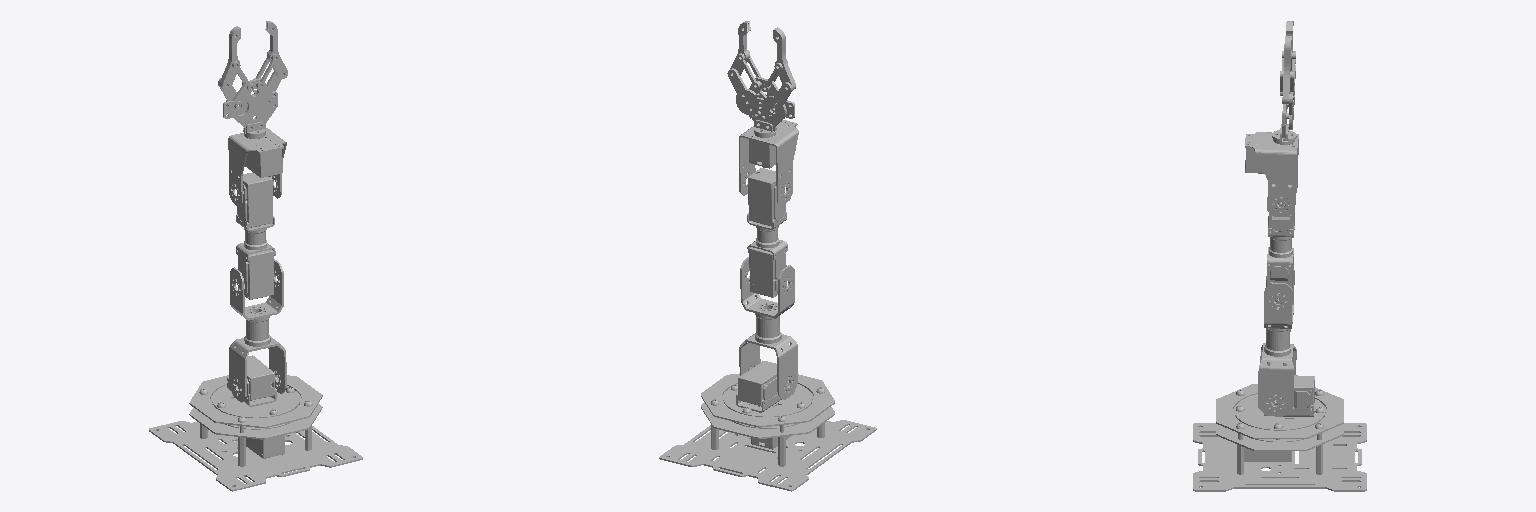
robot.urdf — xbot_urdf:
<robot
  name="xbot_urdf">
  <link
    name="arm_base_link_left">
    <inertial>
      <origin
        xyz="6.5338E-05 -0.0025324 0.015476"
        rpy="0 0 0" />
      <mass
        value="0.088438" />
      <inertia
        ixx="0.0001552"
        ixy="1.1634E-07"
        ixz="-5.1335E-08"
        iyy="0.00012874"
        iyz="1.1171E-06"
        izz="0.00024065" />
    </inertial>
    <visual>
      <origin
        xyz="0 0 0"
        rpy="0 0 0" />
      <geometry>
        <mesh
          filename="package://jbot_description/meshes/arm_base_link.stl" />
      </geometry>
      <material
        name="">
        <color
          rgba="0.75294 0.75294 0.75294 1" />
      </material>
    </visual>
    <collision>
      <origin
        xyz="0 0 0"
        rpy="0 0 0" />
      <geometry>
        <mesh
          filename="package://jbot_description/meshes/arm_base_link.stl" />
      </geometry>
    </collision>
  </link>
  <link
    name="11">
    <inertial>
      <origin
        xyz="-0.00077221 0.02334 -0.0055117"
        rpy="0 0 0" />
      <mass
        value="0.035834" />
      <inertia
        ixx="1.7182E-05"
        ixy="3.5047E-07"
        ixz="-2.277E-07"
        iyy="1.8938E-05"
        iyz="2.2357E-06"
        izz="1.3961E-05" />
    </inertial>
    <visual>
      <origin
        xyz="0 0 0"
        rpy="0 0 0" />
      <geometry>
        <mesh
          filename="package://jbot_description/meshes/1.stl" />
      </geometry>
      <material
        name="">
        <color
          rgba="0.75294 0.75294 0.75294 1" />
      </material>
    </visual>
    <collision>
      <origin
        xyz="0 0 0"
        rpy="0 0 0" />
      <geometry>
        <mesh
          filename="package://jbot_description/meshes/1.stl" />
      </geometry>
    </collision>
  </link>
  <joint
    name="joint_11"
    type="revolute">
    <origin
      xyz="0 0 0.0318"
      rpy="1.5708 8.6288E-16 -0.045991" />
    <parent
      link="arm_base_link_left" />
    <child
      link="11" />
    <axis
      xyz="0 1 0" />
    <limit
      lower="-3.14"
      upper="3.14"
      effort="20"
      velocity="20" />
  </joint>
  <link
    name="21">
    <inertial>
      <origin
        xyz="0.0006496 0.051301 -1.952E-07"
        rpy="0 0 0" />
      <mass
        value="0.022419" />
      <inertia
        ixx="1.9754E-05"
        ixy="1.0595E-10"
        ixz="1.1322E-09"
        iyy="5.9619E-06"
        iyz="-6.1736E-12"
        izz="2.32E-05" />
    </inertial>
    <visual>
      <origin
        xyz="0 0 0"
        rpy="0 0 0" />
      <geometry>
        <mesh
          filename="package://jbot_description/meshes/2.stl" />
      </geometry>
      <material
        name="">
        <color
          rgba="0.75294 0.75294 0.75294 1" />
      </material>
    </visual>
    <collision>
      <origin
        xyz="0 0 0"
        rpy="0 0 0" />
      <geometry>
        <mesh
          filename="package://jbot_description/meshes/2.stl" />
      </geometry>
    </collision>
  </link>
  <joint
    name="joint_21"
    type="revolute">
    <origin
      xyz="0 0.0361 0.00285"
      rpy="-0.023437 -0.00046536 -6.2233E-17" />
    <parent
      link="11" />
    <child
      link="21" />
    <axis
      xyz="-1 0 0" />
    <limit
      lower="-1.58"
      upper="1.58"
      effort="20"
      velocity="20" />
  </joint>
  <link
    name="31">
    <inertial>
      <origin
        xyz="-0.00142186041375823 0.0270328072928759 0.0388746037018501"
        rpy="0 0 0" />
      <mass
        value="0.0402663539085629" />
      <inertia
        ixx="4.4127560248108E-05"
        ixy="3.32854071731324E-08"
        ixz="4.94345468722361E-08"
        iyy="3.11398522692473E-05"
        iyz="-1.89138821688278E-05"
        izz="1.59894644311418E-05" />
    </inertial>
    <visual>
      <origin
        xyz="0 0 0"
        rpy="0 0 0" />
      <geometry>
        <mesh
          filename="package://jbot_description/meshes/3.stl" />
      </geometry>
      <material
        name="">
        <color
          rgba="0.752941176470588 0.752941176470588 0.752941176470588 1" />
      </material>
    </visual>
    <collision>
      <origin
        xyz="0 0 0"
        rpy="0 0 0" />
      <geometry>
        <mesh
          filename="package://jbot_description/meshes/3.stl" />
      </geometry>
    </collision>
  </link>
  <joint
    name="joint_31"
    type="revolute">
    <origin
      xyz="0 0.1 0"
      rpy="-0.96799 0.00040606 -0.00010493" />
    <parent
      link="21" />
    <child
      link="31" />
    <axis
      xyz="1 0 0" />
    <limit
      lower="-1.58"
      upper="1.58"
      effort="20"
      velocity="20" />
  </joint>
  <link
    name="41">
    <inertial>
      <origin
        xyz="0.00091287 0.036544 0.011001"
        rpy="0 0 0" />
      <mass
        value="0.022861" />
      <inertia
        ixx="7.1489E-06"
        ixy="-9.4993E-09"
        ixz="-4.0439E-08"
        iyy="6.6843E-06"
        iyz="-8.9393E-07"
        izz="6.2891E-06" />
    </inertial>
    <visual>
      <origin
        xyz="0 0 0"
        rpy="0 0 0" />
      <geometry>
        <mesh
          filename="package://jbot_description/meshes/4.stl" />
      </geometry>
      <material
        name="">
        <color
          rgba="0.75294 0.75294 0.75294 1" />
      </material>
    </visual>
    <collision>
      <origin
        xyz="0 0 0"
        rpy="0 0 0" />
      <geometry>
        <mesh
          filename="package://jbot_description/meshes/4.stl" />
      </geometry>
    </collision>
  </link>
  <joint
    name="joint_41"
    type="revolute">
    <origin
      xyz="-1.0631E-05 0.054066 0.07775"
      rpy="0.96368 -0.00031664 -0.00027497" />
    <parent
      link="31" />
    <child
      link="41" />
    <axis
      xyz="-1 0 0" />
    <limit
      lower="-1.58"
      upper="1.58"
      effort="20"
      velocity="20" />
  </joint>
  <link
    name="51">
    <inertial>
      <origin
        xyz="-0.000259827169187939 0.0471965828978234 -0.00215297665159428"
        rpy="0 0 0" />
      <mass
        value="0.0186733070086606" />
      <inertia
        ixx="1.405111027373E-05"
        ixy="-2.03721243160267E-07"
        ixz="-1.14051477910584E-08"
        iyy="5.9439442349666E-06"
        iyz="9.41065401833358E-09"
        izz="1.95798591545622E-05" />
    </inertial>
    <visual>
      <origin
        xyz="0 0 0"
        rpy="0 0 0" />
      <geometry>
        <mesh
          filename="package://jbot_description/meshes/5.stl" />
      </geometry>
      <material
        name="">
        <color
          rgba="0.752941176470588 0.752941176470588 0.752941176470588 1" />
      </material>
    </visual>
    <collision>
      <origin
        xyz="0 0 0"
        rpy="0 0 0" />
      <geometry>
        <mesh
          filename="package://jbot_description/meshes/5.stl" />
      </geometry>
    </collision>
  </link>
  <joint
    name="joint_51"
    type="revolute">
    <origin
      xyz="0.00054953 0.051085 0"
      rpy="4.2407E-07 0.00084911 9.1186E-06" />
    <parent
      link="41" />
    <child
      link="51" />
    <axis
      xyz="0 1 0" />
    <limit
      lower="-3.14"
      upper="3.14"
      effort="20"
      velocity="20" />
  </joint>
</robot>

--- What the picture shows (computed from the rendered views, not written in the file) ---
3 views of the same robot in one strip: view 1: azimuth 30°, elevation 25°; view 2: azimuth 150°, elevation 25°; view 3: azimuth 270°, elevation 25° (orthographic).
Model xbot_urdf with 6 links and 5 joints (5 revolute), rooted at arm_base_link_left, posed all joints at 0.
Links seen in each view (by area): view 1: arm_base_link_left, 21, 51, 31, 11, 41; view 2: arm_base_link_left, 21, 51, 31, 11, 41; view 3: arm_base_link_left, 21, 41, 11, 31, 51.
Boxes of the visible links, x1,y1,x2,y2 form: arm_base_link_left: (149,375,362,491); 21: (229,259,286,402); 51: (218,21,287,138); 31: (236,172,275,299); 11: (212,355,299,429); 41: (228,128,286,206); arm_base_link_left: (659,373,876,491); 21: (739,257,797,399); 51: (727,21,795,137); 31: (747,168,787,297); 11: (723,361,812,428); 41: (739,120,798,205); arm_base_link_left: (1193,384,1366,491); 21: (1258,269,1296,416); 41: (1245,132,1298,216); 11: (1235,375,1325,441); 31: (1266,184,1295,305); 51: (1272,21,1296,144).
Size in the robot's own frame: 0.14 by 0.154 by 0.4255 metres.
6 mesh visuals loaded from 6 distinct referenced files (6 binary STL).